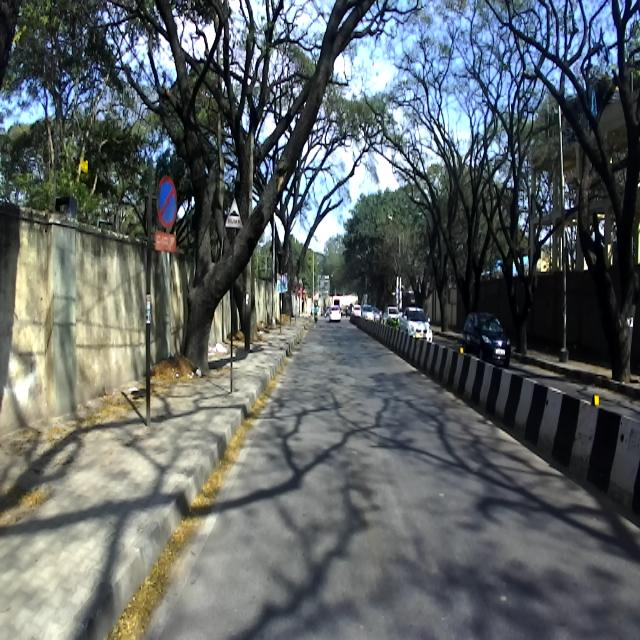sign board ahead at: (149, 157, 183, 252), (214, 192, 243, 238)
